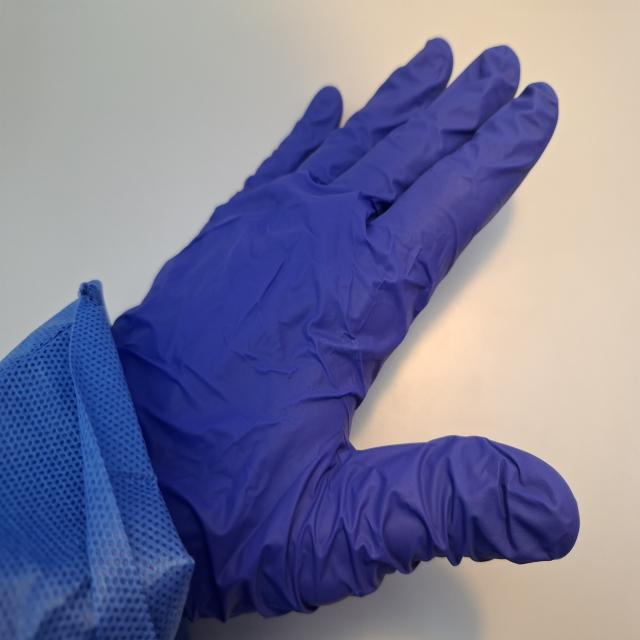glove_on: (104, 33, 584, 640)
